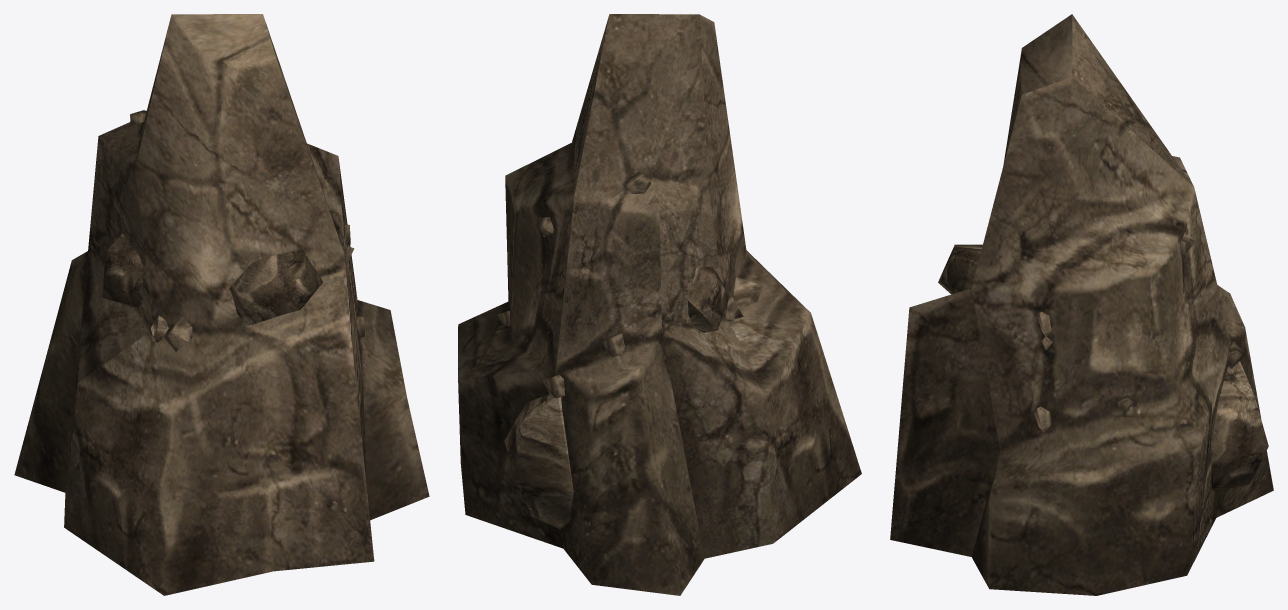
The model's file is iron_vein.glb.
3 views of the same model, side by side, from view 1: azimuth 30°, elevation 25°; view 2: azimuth 150°, elevation 25°; view 3: azimuth 270°, elevation 25° (orthographic). The views are drawn at different scales.
Visible parts, largest first — view 1: ore.001; view 2: ore.001; view 3: ore.001.
Part boxes in pixels (x1=…): ore.001: x1=14, y1=14, x2=429, y2=595; ore.001: x1=458, y1=14, x2=861, y2=595; ore.001: x1=890, y1=14, x2=1273, y2=595.
Bounding box in the file's own units: 111 × 168 × 121.
Materials: 1 (1 with a texture image).
